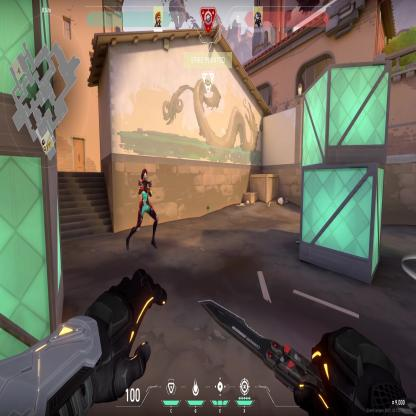enemy: (125, 166, 161, 256)
